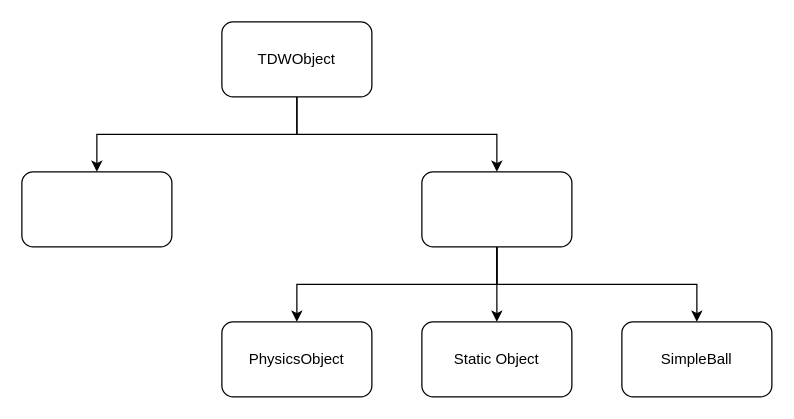
This 794x419 diagram has some shape labels left out. The box of each missing label's shape, as (x1, y1, x2, y2) in pixels:
MovingObject: (421, 171, 572, 247)
Occluder: (21, 171, 172, 247)
